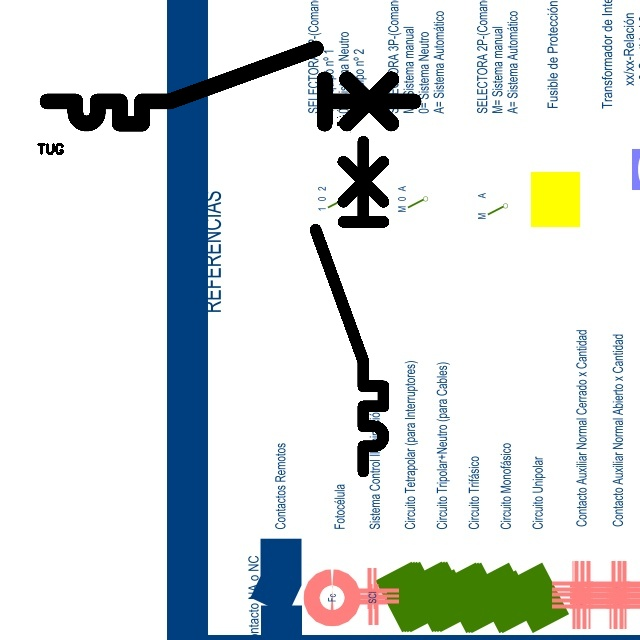interruptor_termomagnetico: (38, 39, 423, 133), (307, 133, 392, 480)
